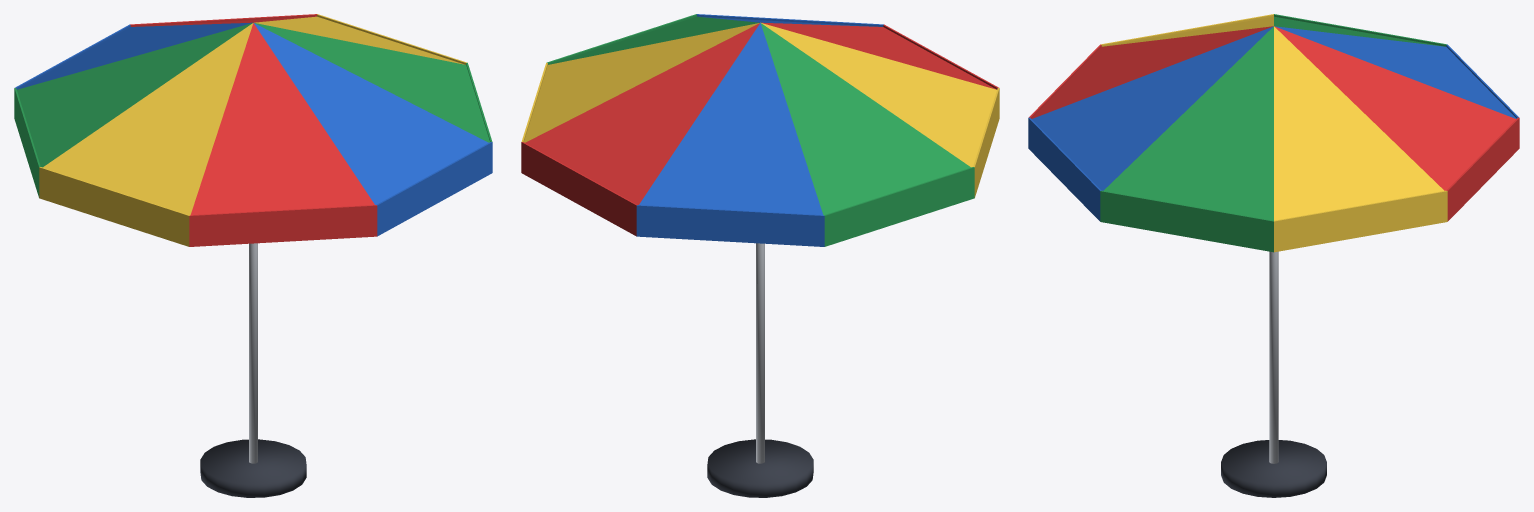
File: umbrella.glb
The picture shows the model from 3 angles, left to right: view 1: azimuth 30°, elevation 25°; view 2: azimuth 150°, elevation 25°; view 3: azimuth 270°, elevation 25°; orthographic projection.
Visible parts, largest first — view 1: Cone.002, Cylinder.027, Cylinder.029, Cylinder.028; view 2: Cone.002, Cylinder.027, Cylinder.029, Cylinder.028; view 3: Cone.002, Cylinder.027, Cylinder.029, Cylinder.028.
Part boxes in pixels (left/top/right/bottom): Cone.002: left=17, top=16, right=489, bottom=215; Cylinder.027: left=14, top=14, right=492, bottom=246; Cylinder.029: left=200, top=439, right=306, bottom=497; Cylinder.028: left=249, top=243, right=257, bottom=463; Cone.002: left=524, top=16, right=996, bottom=215; Cylinder.027: left=521, top=14, right=999, bottom=246; Cylinder.029: left=707, top=439, right=813, bottom=497; Cylinder.028: left=756, top=243, right=764, bottom=463; Cone.002: left=1031, top=16, right=1516, bottom=220; Cylinder.027: left=1028, top=14, right=1519, bottom=252; Cylinder.029: left=1221, top=440, right=1326, bottom=497; Cylinder.028: left=1269, top=251, right=1278, bottom=463.
Bounding box in the file's own units: 2.6 × 2.62 × 2.6.
